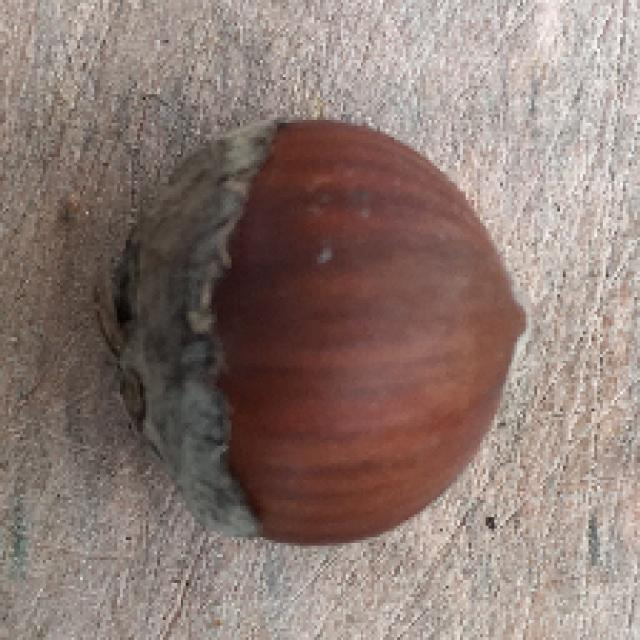DamagedHazelnut: (104, 118, 532, 545)
